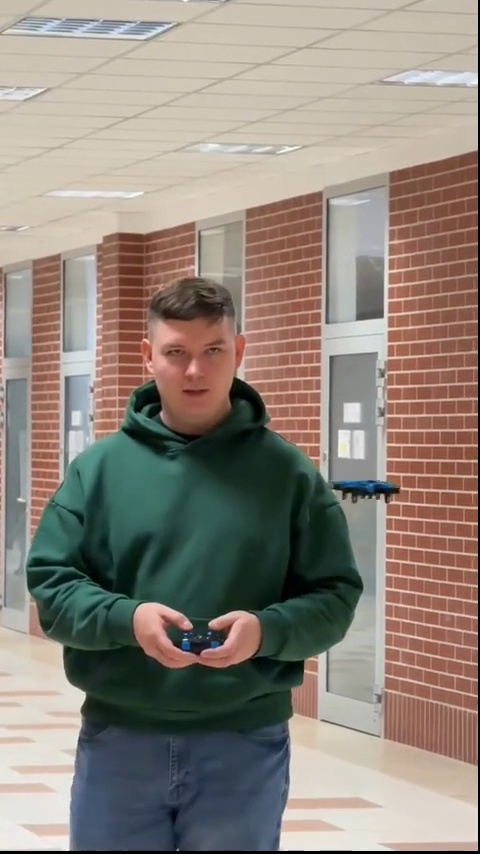drone: (331, 470, 395, 503)
no vest: (27, 277, 373, 822)
